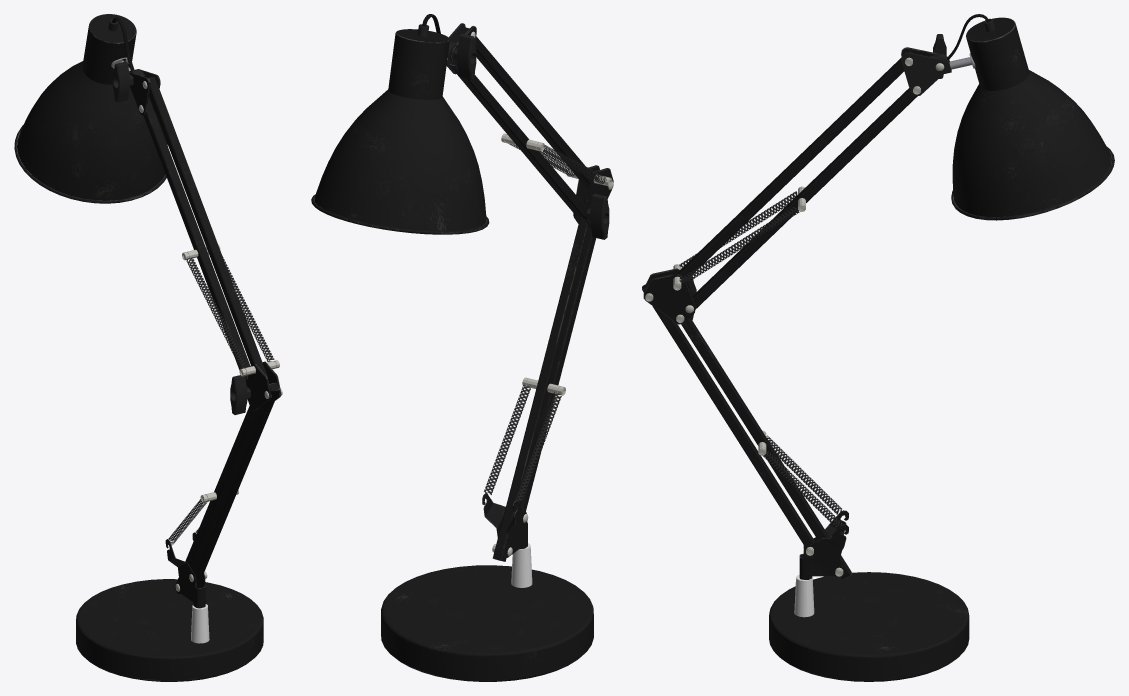
The picture shows the model from 3 angles, left to right: view 1: azimuth 30°, elevation 25°; view 2: azimuth 150°, elevation 25°; view 3: azimuth 270°, elevation 25°; orthographic projection. The views are drawn at different scales.
Visible parts, largest first — view 1: stand_lamp_black:group1 (×15), stand_lamp_black:polySurface9stand_lamp_s; view 2: stand_lamp_black:group1 (×14), stand_lamp_black:polySurface9stand_lamp_s; view 3: stand_lamp_black:group1 (×14).
Part boxes in pixels (left/top/right/bottom): stand_lamp_black:group1 (×15): left=14, top=14, right=279, bottom=681; stand_lamp_black:polySurface9stand_lamp_s: left=113, top=61, right=133, bottom=102; stand_lamp_black:group1 (×14): left=311, top=26, right=613, bottom=681; stand_lamp_black:polySurface9stand_lamp_s: left=453, top=33, right=476, bottom=79; stand_lamp_black:group1 (×14): left=642, top=17, right=1114, bottom=681.
Bounding box in the file's own units: 20 × 68.91 × 47.14.
1 material, 1 textured.
